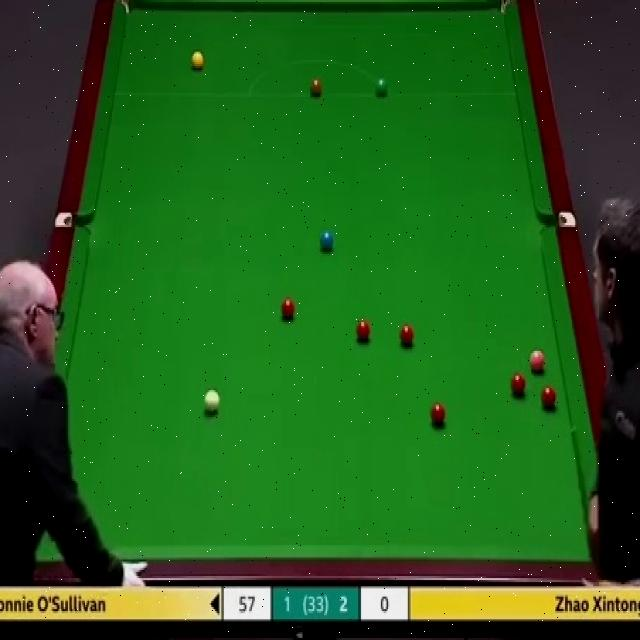blue-ball: (320, 226, 334, 254)
brown-ball: (309, 77, 324, 96)
green-ball: (374, 74, 389, 98)
pink-ball: (528, 350, 548, 372)
red-ball: (511, 371, 528, 401), (428, 404, 447, 429), (398, 324, 415, 347), (356, 318, 371, 344), (542, 388, 558, 411), (280, 296, 295, 318)
white-ball: (203, 391, 221, 416)
yellow-ball: (192, 52, 204, 71)
